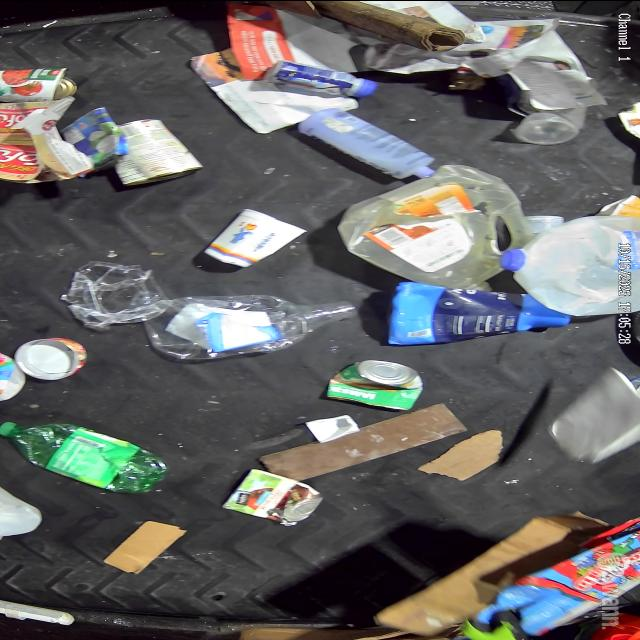can: (225, 464, 327, 528), (108, 123, 208, 185), (318, 356, 432, 410), (1, 62, 86, 104), (24, 336, 92, 378)
milk_jug: (502, 215, 640, 313)
non_white_jug: (350, 163, 500, 290), (383, 284, 569, 340)
plastic_bottle: (152, 296, 368, 357), (70, 261, 160, 329)
